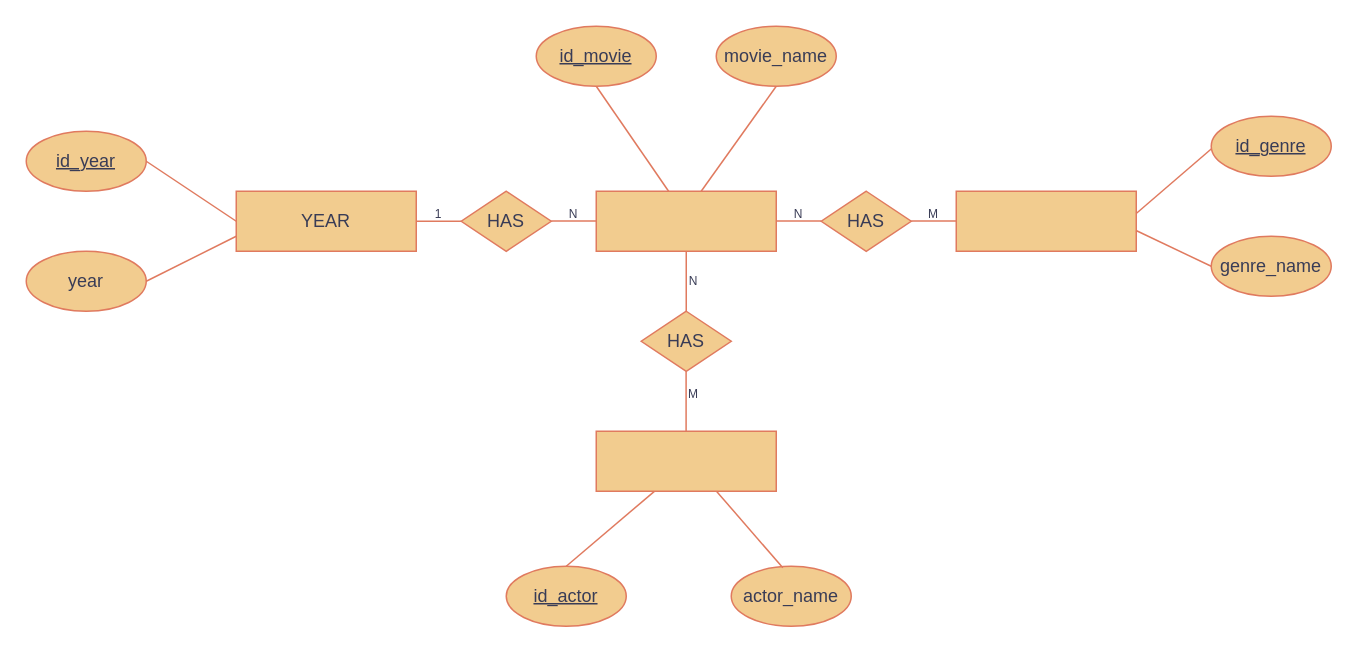
The diagram is 1358 pixels wide and 653 high, and some of its shapes have lost their labels. Here are the shapes that lost their labels. From the top down, the box of each, then its label:
(595, 190, 776, 251): MOVIE
(955, 190, 1136, 251): GENRE
(595, 430, 776, 491): ACTOR
